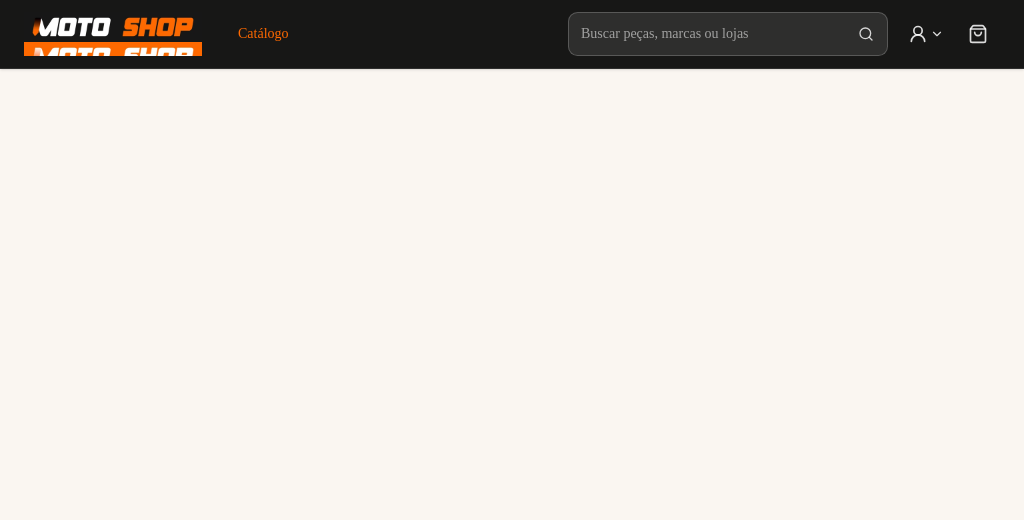
Test: puts the Admin and Central do Lojista shortcuts on top for whoever can open them
Click the button named "Minha conta".
click(926, 34)  # box left=900, top=12, right=952, bottom=56
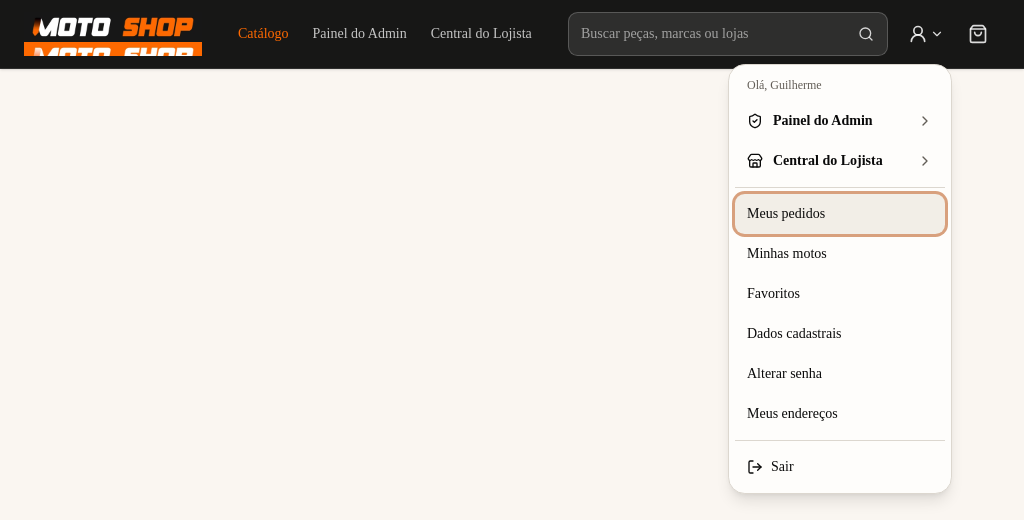
Now the menu item "Painel do Admin" is shown, box left=747, top=113, right=933, bottom=129
